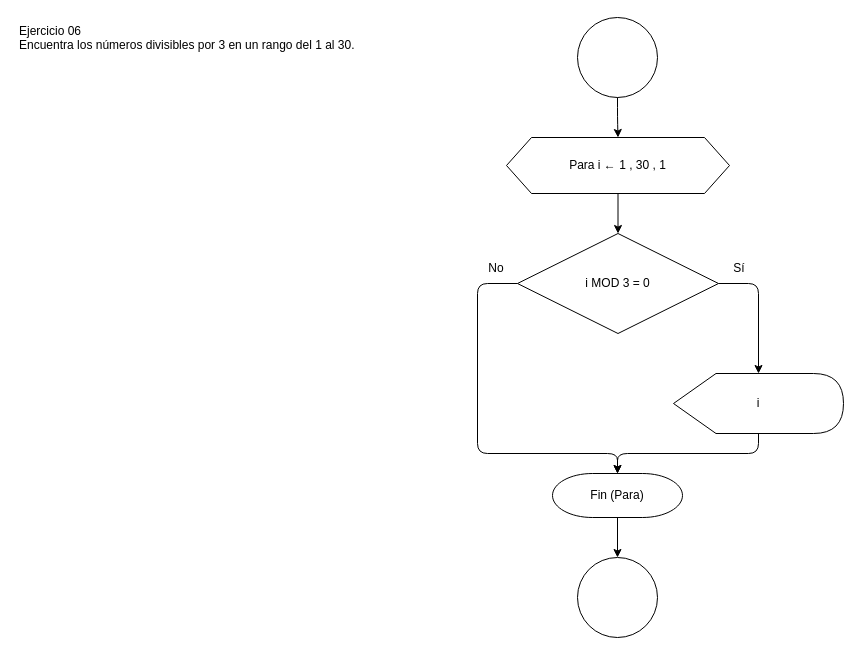
This 861x655 diagram has some shape labels left out. The shapes that lost their labels are listed below. From the top down, each one's centre as x and y in pixels, then its label:
At (617,57): "Inicio".
At (617,597): "Fin".
